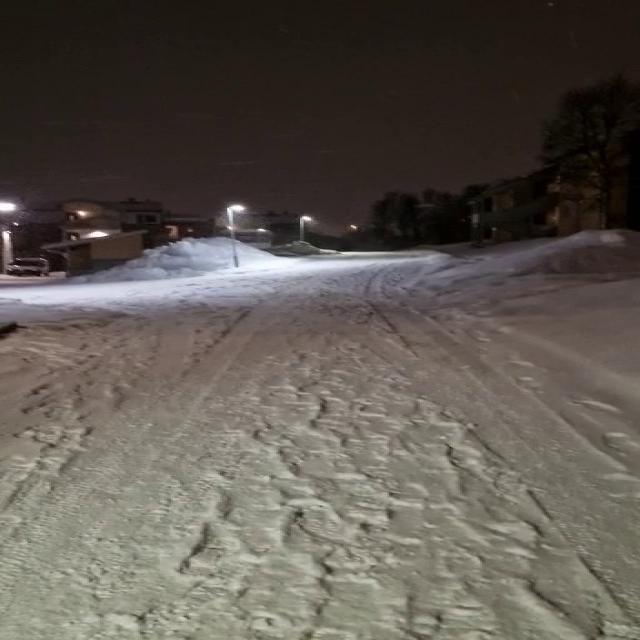path: (0, 250, 640, 640)
